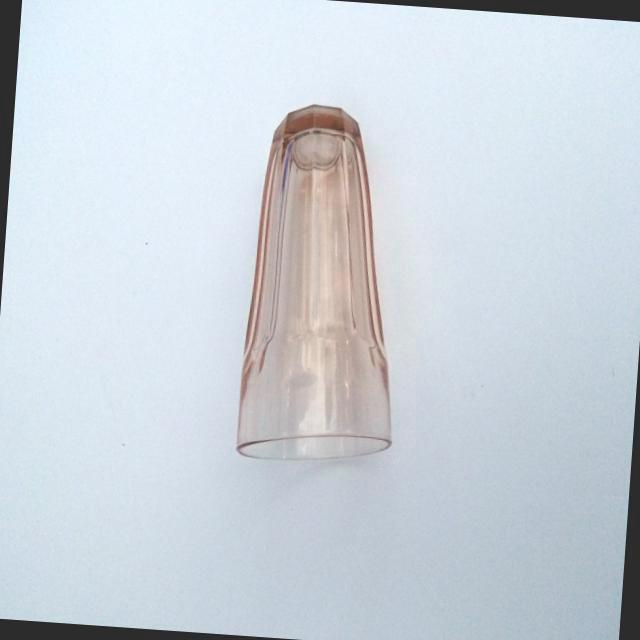glass: (224, 72, 422, 496)
